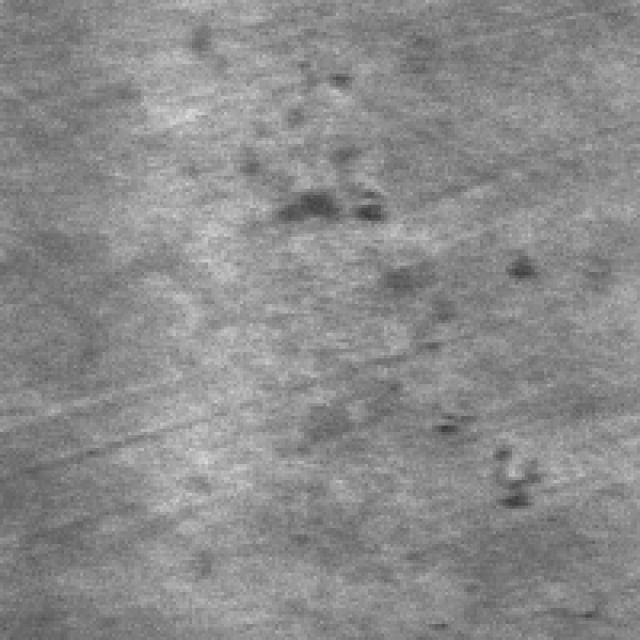rolled-in_scale: (378, 227, 540, 506), (234, 48, 384, 221)
